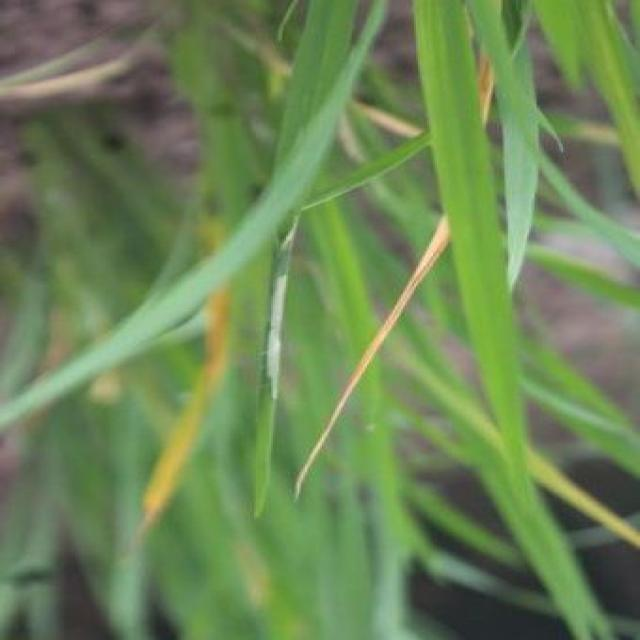Rice Tungro: (297, 267, 445, 506)
